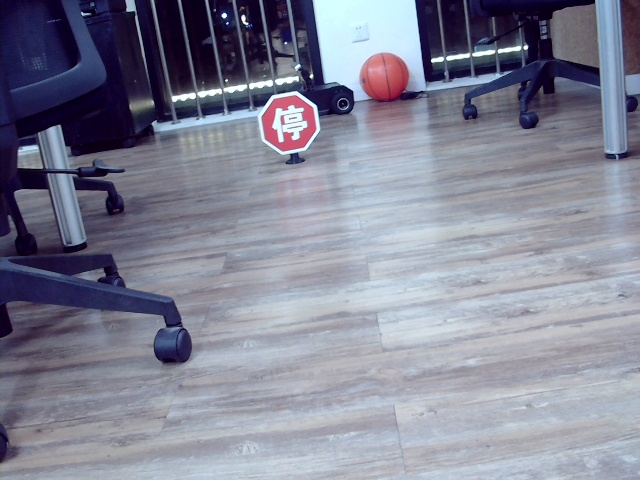stop: (271, 111, 307, 141)
